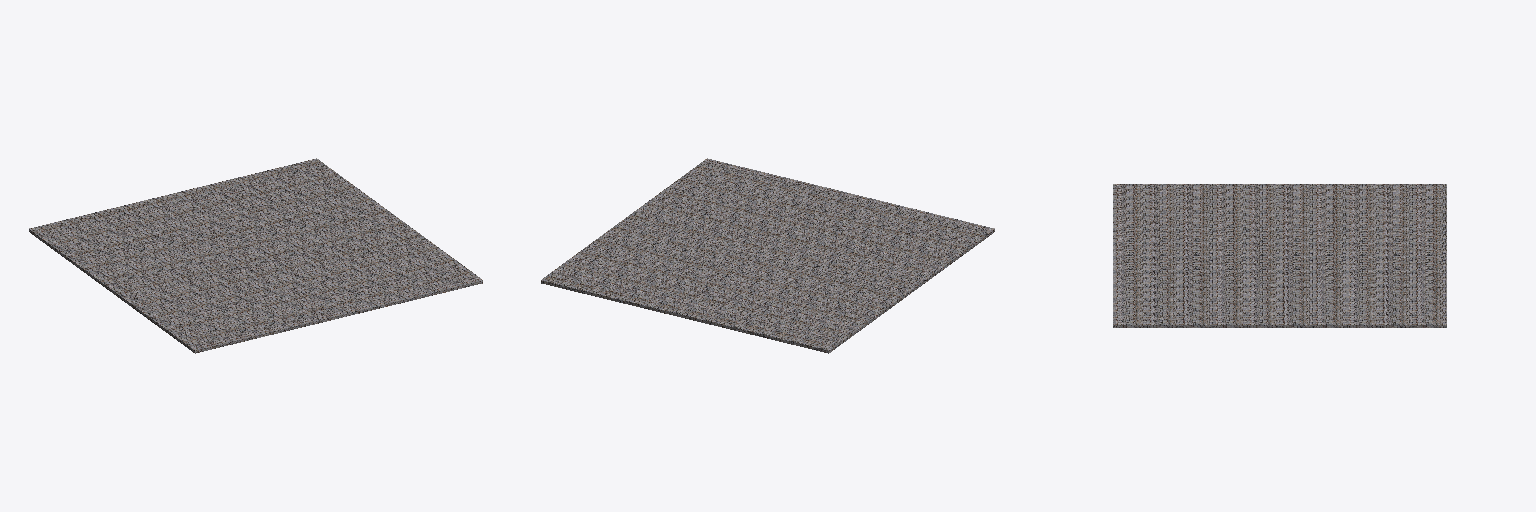
3 renders of one model, left to right at view 1: azimuth 30°, elevation 25°; view 2: azimuth 150°, elevation 25°; view 3: azimuth 270°, elevation 25°, orthographic.
Visible parts, largest first — view 1: Cube; view 2: Cube; view 3: Cube.
Part boxes in pixels (x1,y1,x2,y2): Cube: (29, 158, 482, 353); Cube: (541, 158, 994, 353); Cube: (1113, 184, 1446, 327).
Size of the model in its own units: 100 by 1 by 100.
Materials: 1 (1 with a texture image).